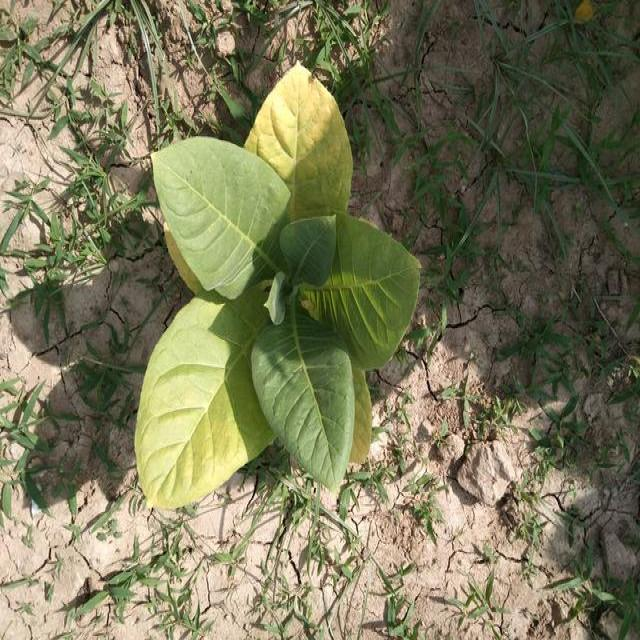crop: (139, 62, 416, 516)
